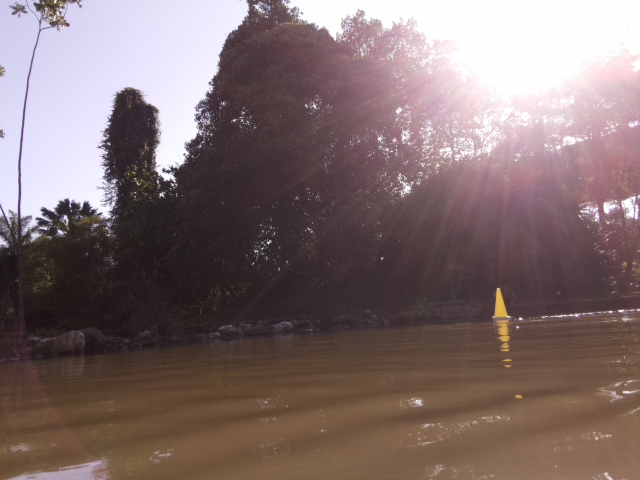checkpoint: (491, 284, 513, 321)
